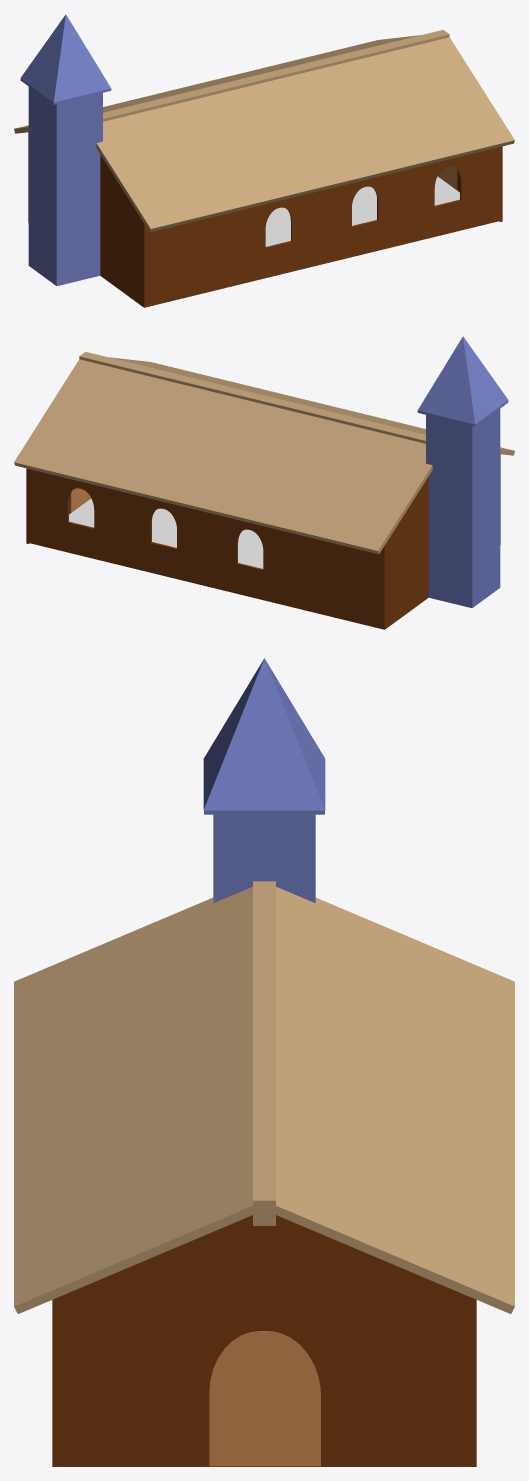
File: churchproto1.fbx
3 renders of one model, top to bottom at view 1: azimuth 30°, elevation 25°; view 2: azimuth 150°, elevation 25°; view 3: azimuth 270°, elevation 25°, orthographic. The views are drawn at different scales.
Parts seen in each view (by area): view 1: Cylinder; view 2: Cylinder; view 3: Cylinder.
Boxes of the visible parts, x1=… form: Cylinder: x1=14, y1=14, x2=514, y2=307; Cylinder: x1=14, y1=336, x2=514, y2=629; Cylinder: x1=14, y1=658, x2=514, y2=1466.
Size of the model in its own units: 4640 by 2787 by 2688.
